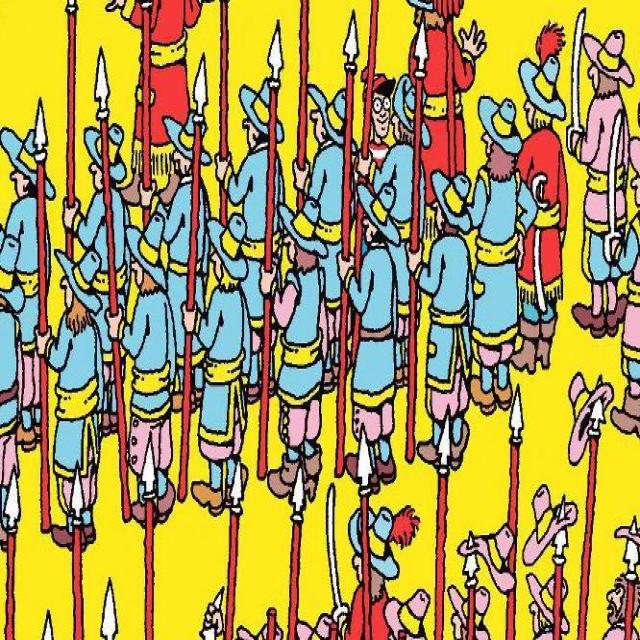waldo: (360, 66, 396, 139)
